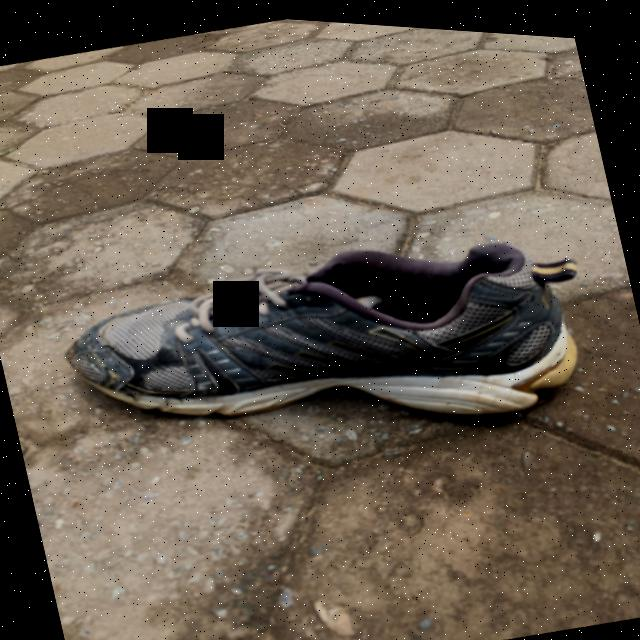shoes: (48, 179, 592, 512)
